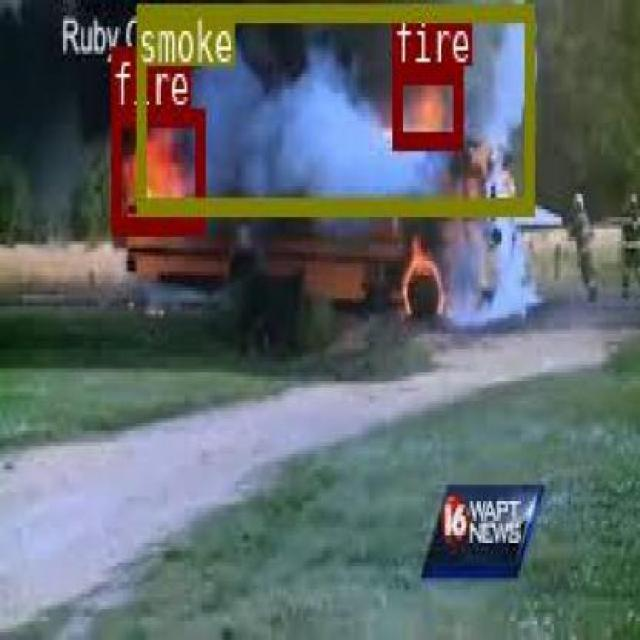Fire: (110, 107, 202, 230), (392, 64, 459, 148)
Smoke: (133, 1, 532, 212)
